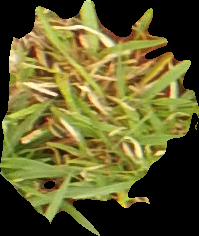grass: (1, 1, 197, 234)
